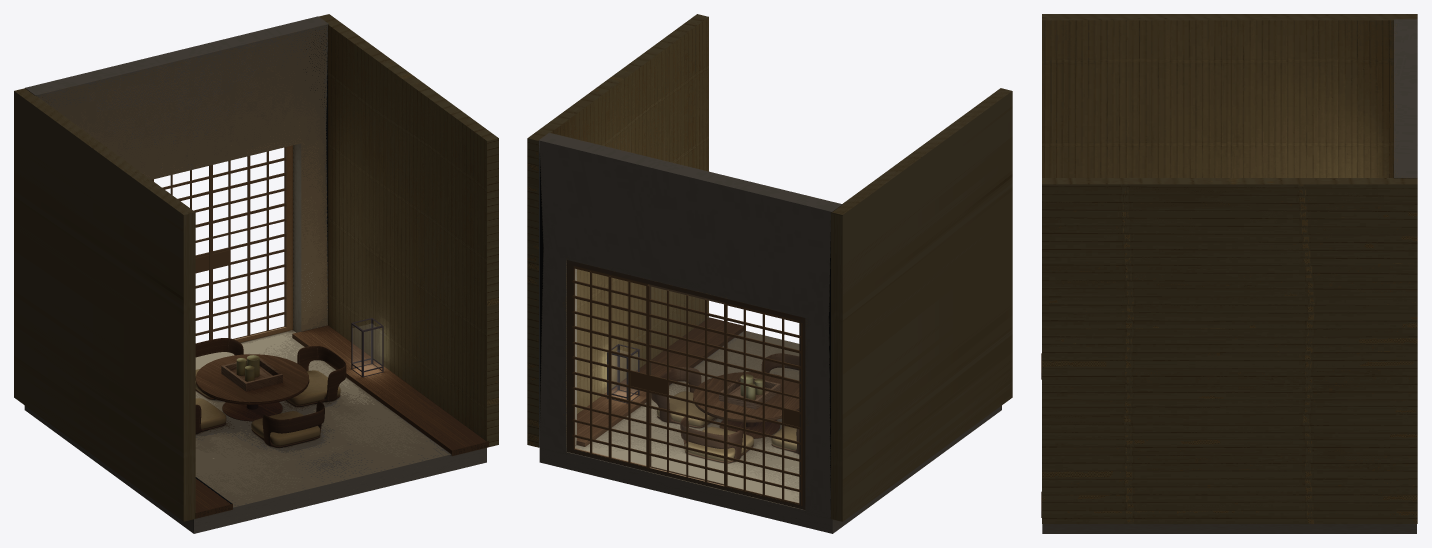
Rendered from room-transformed_png-texture.glb.
3 renders of one model, left to right at view 1: azimuth 30°, elevation 25°; view 2: azimuth 150°, elevation 25°; view 3: azimuth 270°, elevation 25°, orthographic. The views are drawn at different scales.
Visible parts, largest first — view 1: Object_2, Object_4, Object_11, Object_10, Object_18, Object_14, Object_12, Object_17, Object_3, Object_8, Object_9, Object_5 (+2 smaller); view 2: Object_2, Object_11, Object_4, Object_14, Object_10, Object_3, Object_18, Object_12, Object_17, Object_7, Object_8, Object_5 (+1 smaller); view 3: Object_4, Object_2, Object_11, Object_10.
Part boxes in pixels (x1=…): Object_2: x1=14, y1=88, x2=195, y2=521; Object_4: x1=319, y1=14, x2=498, y2=446; Object_11: x1=25, y1=16, x2=328, y2=332; Object_10: x1=24, y1=330, x2=486, y2=533; Object_18: x1=195, y1=325, x2=488, y2=518; Object_14: x1=152, y1=147, x2=285, y2=339; Object_12: x1=195, y1=354, x2=309, y2=421; Object_17: x1=195, y1=369, x2=340, y2=446; Object_3: x1=234, y1=145, x2=292, y2=342; Object_8: x1=286, y1=346, x2=346, y2=406; Object_9: x1=251, y1=401, x2=324, y2=447; Object_5: x1=221, y1=358, x2=282, y2=391; Object_2: x1=831, y1=88, x2=1012, y2=521; Object_11: x1=538, y1=132, x2=842, y2=518; Object_4: x1=527, y1=14, x2=708, y2=447; Object_14: x1=572, y1=266, x2=802, y2=505; Object_10: x1=539, y1=331, x2=1001, y2=533; Object_3: x1=567, y1=260, x2=805, y2=509; Object_18: x1=576, y1=317, x2=743, y2=446; Object_12: x1=693, y1=372, x2=799, y2=438; Object_17: x1=656, y1=391, x2=796, y2=461; Object_7: x1=680, y1=417, x2=753, y2=463; Object_8: x1=651, y1=367, x2=716, y2=428; Object_5: x1=719, y1=377, x2=780, y2=409; Object_4: x1=1042, y1=178, x2=1417, y2=523; Object_2: x1=1042, y1=14, x2=1417, y2=177; Object_11: x1=1394, y1=19, x2=1417, y2=178; Object_10: x1=1042, y1=524, x2=1416, y2=533.
Bounding box in the file's own units: 28.17 × 27.5 × 26.32.
Materials: 16 (15 with a texture image).
